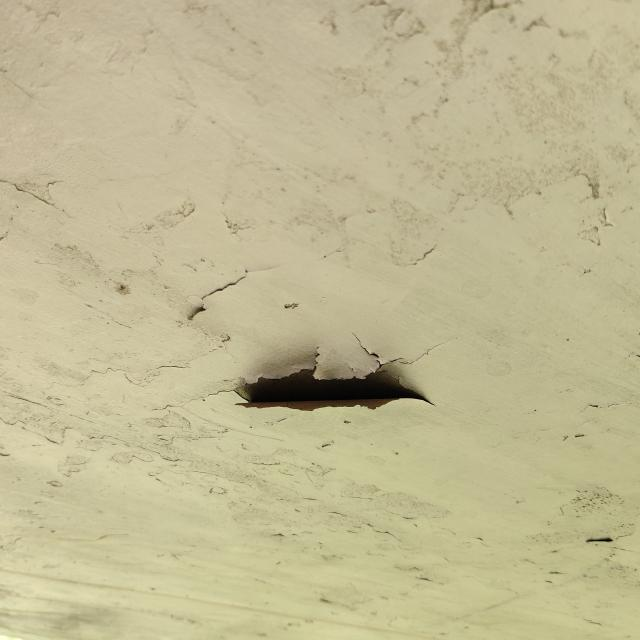paint-off: (213, 341, 444, 433)
